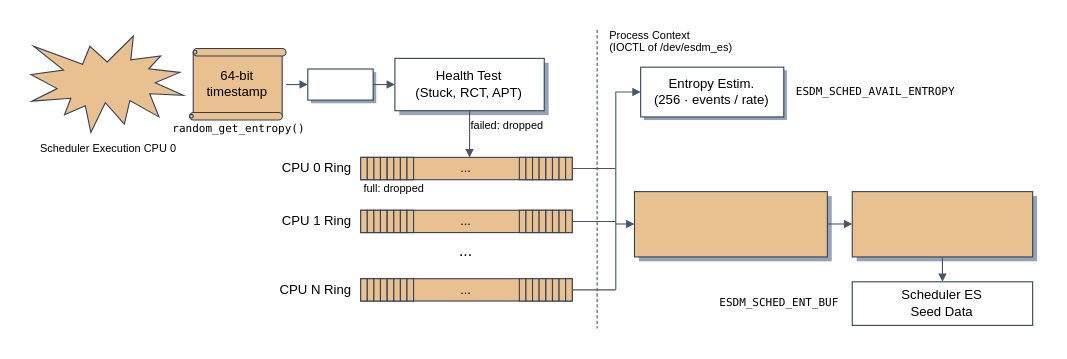
Image size: 1067x359. Some labels were removed from this diagram. The shapes that lost their labels are listed below. From the top down, each one's box as (x1, y1, x2, y2) in pixels, then its label:
(29, 35, 183, 132): Task Wakeup
(306, 68, 373, 100): / GCD
(633, 190, 827, 257): Kernel DRBG (XDRBG-256 or HMAC_DRBG) DRBG.Seed(events)
(851, 190, 1032, 257): DRBG.Generate additional input "ESDM_SCH_DRBG"
